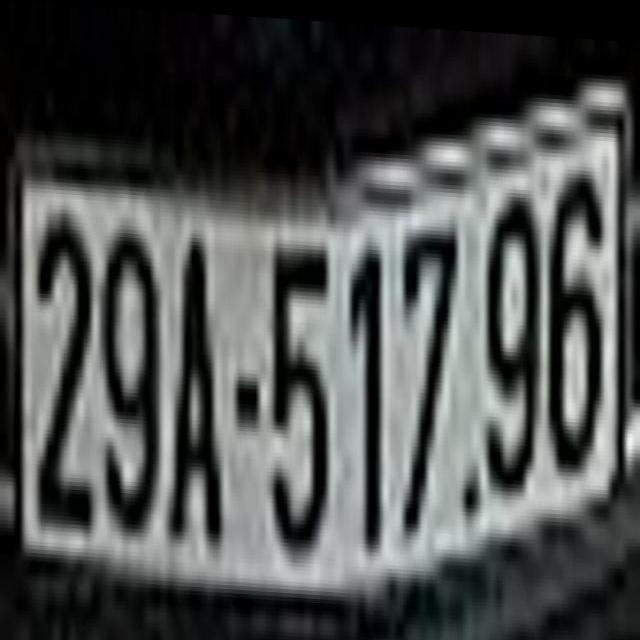1: (347, 232, 384, 548)
2: (34, 196, 94, 548)
5: (269, 231, 332, 552)
6: (546, 157, 604, 478)
7: (400, 211, 460, 548)
9: (482, 184, 542, 521), (101, 215, 160, 536)
A: (168, 222, 222, 563)
